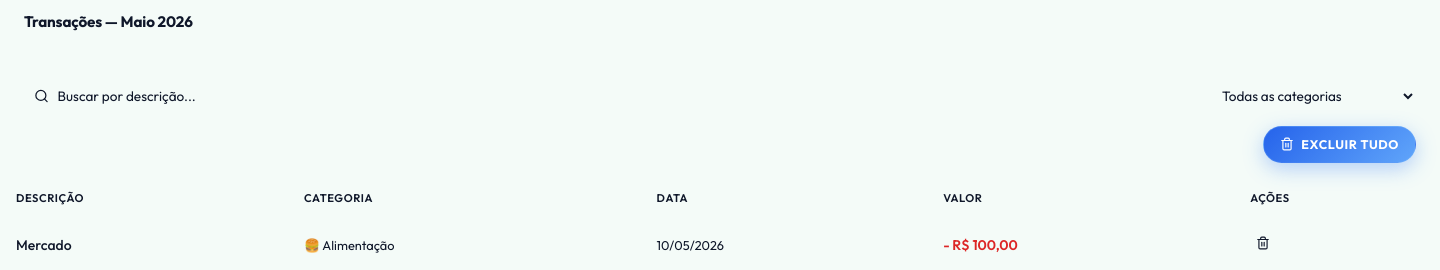
Scenario: TransactionList — filtro de categoria › oculta o botão "Excluir tudo" quando há filtro ativo
Select "🍔 Alimentação" in the dropdown named "filtrar por categoria": (1311, 96) [1206, 78, 1416, 114]
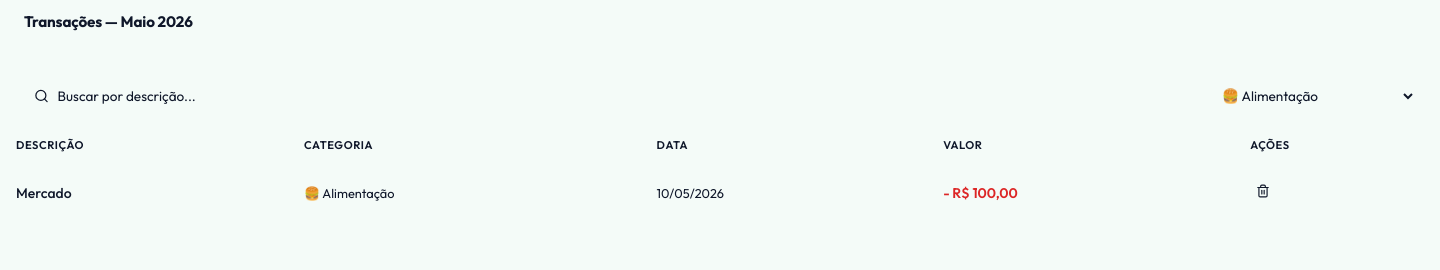
Now the button "Excluir tudo" is gone
